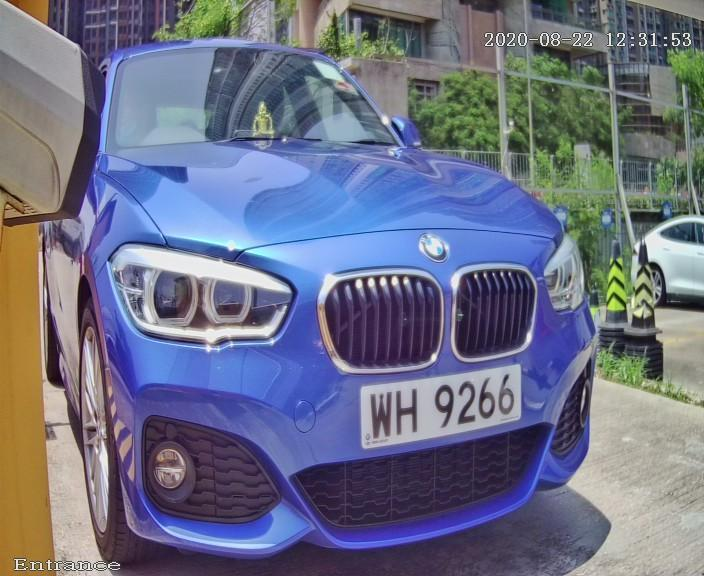Car: (13, 6, 635, 576)
License Plate: (359, 353, 529, 453)
